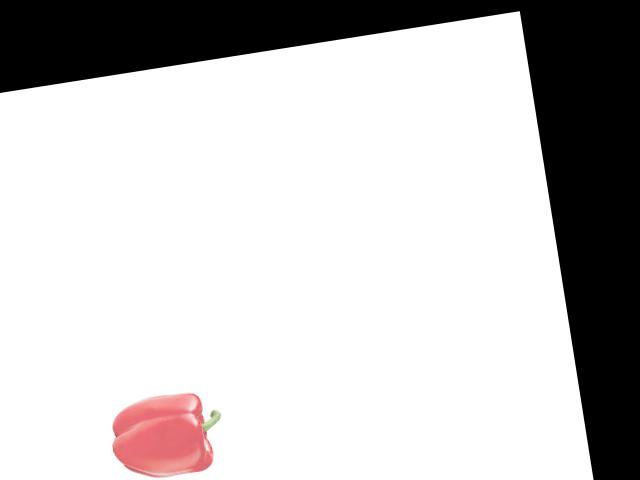bell_pepper: (102, 382, 229, 480)
